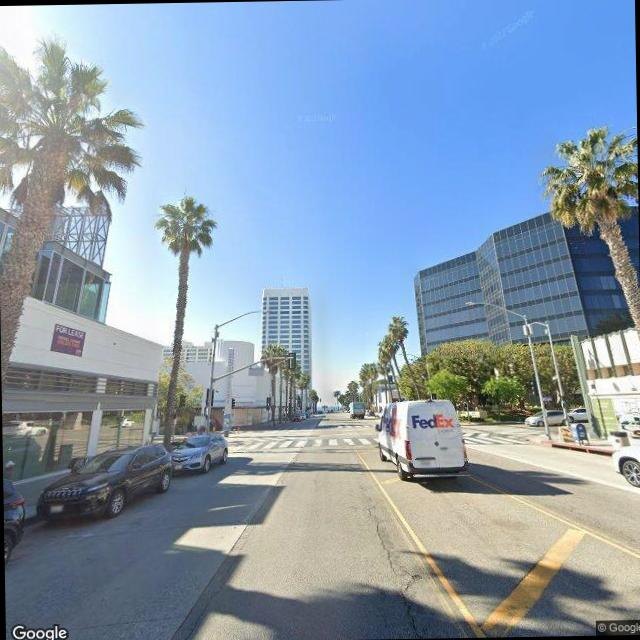crack: (363, 489, 436, 638)
